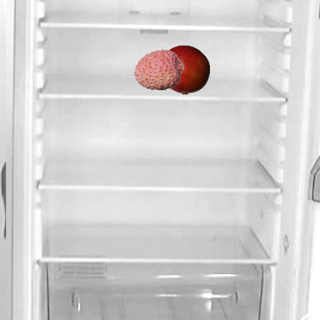Apple Braeburn: (159, 44, 209, 94)
Lychee: (133, 44, 183, 94)
